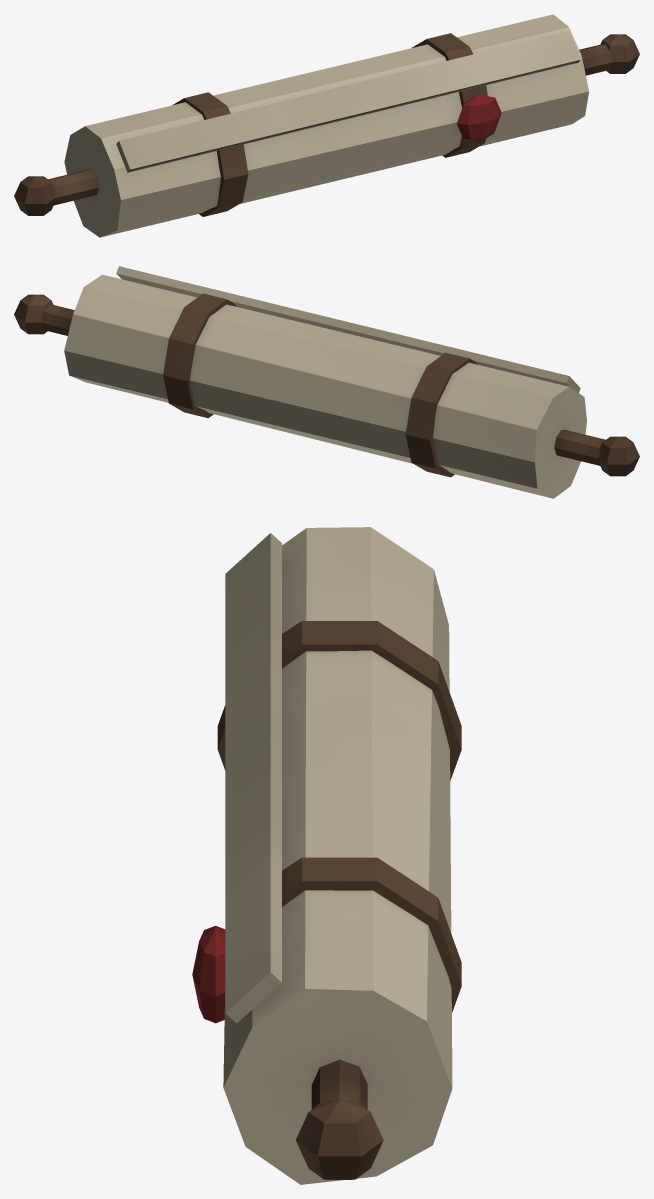
File: scroll_closed_01.glb
The picture shows the model from 3 angles, top to bottom: view 1: azimuth 30°, elevation 25°; view 2: azimuth 150°, elevation 25°; view 3: azimuth 270°, elevation 25°; orthographic projection. The views are drawn at different scales.
Visible parts, largest first — view 1: scroll_closed_01; view 2: scroll_closed_01; view 3: scroll_closed_01.
Boxes of the visible parts, x1,y1,x2,y2 form: scroll_closed_01: (14,14,639,237); scroll_closed_01: (14,266,639,498); scroll_closed_01: (192,527,461,1184).
Size of the model in its own units: 0.3551 by 0.058 by 0.0674.
5 materials, 5 textured.
